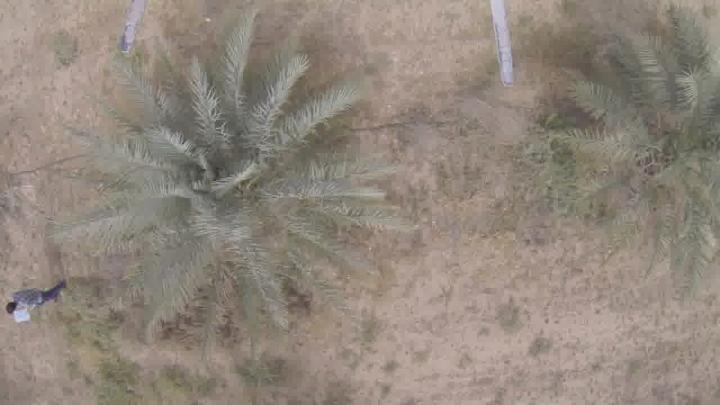Date-Palm-Crown: (122, 74, 346, 284), (616, 46, 720, 242)
